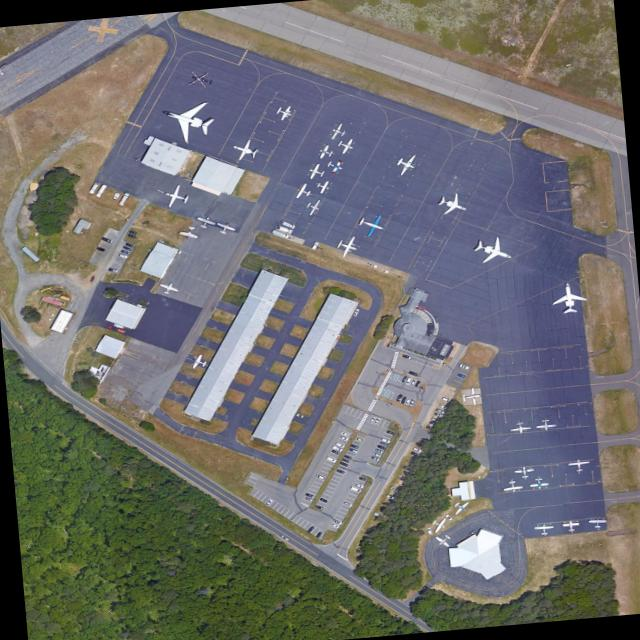large-vehicle: (94, 183, 106, 198), (271, 229, 288, 239), (278, 219, 295, 229), (274, 225, 292, 234), (118, 192, 129, 206), (87, 180, 98, 194), (349, 486, 361, 493), (405, 378, 410, 385)
plane: (149, 91, 222, 148), (468, 231, 519, 271), (547, 280, 587, 316), (432, 189, 473, 220), (352, 210, 390, 240), (226, 136, 261, 163), (158, 182, 191, 210), (390, 151, 420, 178), (332, 233, 361, 259), (301, 197, 323, 217), (291, 182, 314, 201), (322, 156, 345, 175), (448, 498, 471, 517), (211, 220, 236, 237), (273, 103, 295, 122), (313, 142, 335, 161), (304, 162, 326, 181), (334, 136, 356, 155), (426, 515, 448, 534), (154, 280, 180, 296), (192, 214, 216, 231), (326, 122, 347, 141), (186, 352, 208, 370), (177, 224, 200, 241), (431, 532, 454, 549), (566, 458, 589, 472), (512, 465, 534, 479), (508, 421, 531, 434), (313, 179, 331, 195), (534, 418, 556, 431), (501, 480, 523, 493), (528, 476, 548, 490), (532, 523, 553, 535), (561, 520, 579, 532), (587, 517, 605, 528)
small-vehicle: (458, 363, 469, 370), (407, 370, 418, 377), (99, 237, 111, 243), (443, 513, 452, 521), (434, 407, 444, 414), (332, 445, 342, 452), (411, 446, 421, 453), (351, 308, 358, 317), (401, 353, 410, 360), (390, 485, 399, 492), (415, 442, 424, 449), (314, 473, 323, 480), (280, 535, 289, 542), (294, 412, 303, 419), (334, 441, 343, 448), (107, 267, 117, 273), (126, 233, 136, 239), (385, 494, 395, 500), (342, 501, 352, 507), (332, 519, 342, 525), (409, 451, 419, 457), (379, 437, 389, 443), (373, 448, 383, 454), (264, 499, 272, 506), (120, 249, 129, 255), (456, 373, 465, 379), (429, 417, 438, 423), (425, 425, 434, 431), (318, 497, 327, 503), (335, 468, 344, 474), (373, 512, 382, 518), (354, 483, 363, 489), (326, 456, 335, 462), (330, 449, 339, 455), (338, 435, 347, 441), (117, 254, 127, 259), (441, 397, 451, 402), (347, 448, 357, 453), (314, 531, 321, 538), (399, 376, 406, 383), (395, 394, 402, 401), (306, 526, 314, 532), (402, 465, 410, 471), (408, 398, 414, 406), (369, 416, 375, 424), (373, 417, 379, 425), (95, 247, 104, 252), (121, 245, 130, 250), (432, 412, 441, 417), (339, 461, 348, 466), (358, 477, 367, 482), (313, 505, 322, 510), (304, 493, 313, 498), (385, 430, 394, 435), (371, 452, 380, 457), (354, 437, 363, 442), (349, 444, 358, 449), (340, 431, 349, 436), (404, 398, 410, 405), (400, 396, 406, 403), (124, 243, 132, 248), (128, 230, 136, 235), (438, 404, 446, 409), (427, 421, 435, 426), (330, 523, 338, 528), (304, 497, 312, 502), (426, 527, 431, 535), (343, 455, 351, 460), (379, 441, 387, 446), (377, 445, 385, 450), (413, 381, 419, 387), (341, 458, 347, 463), (410, 378, 415, 384)
